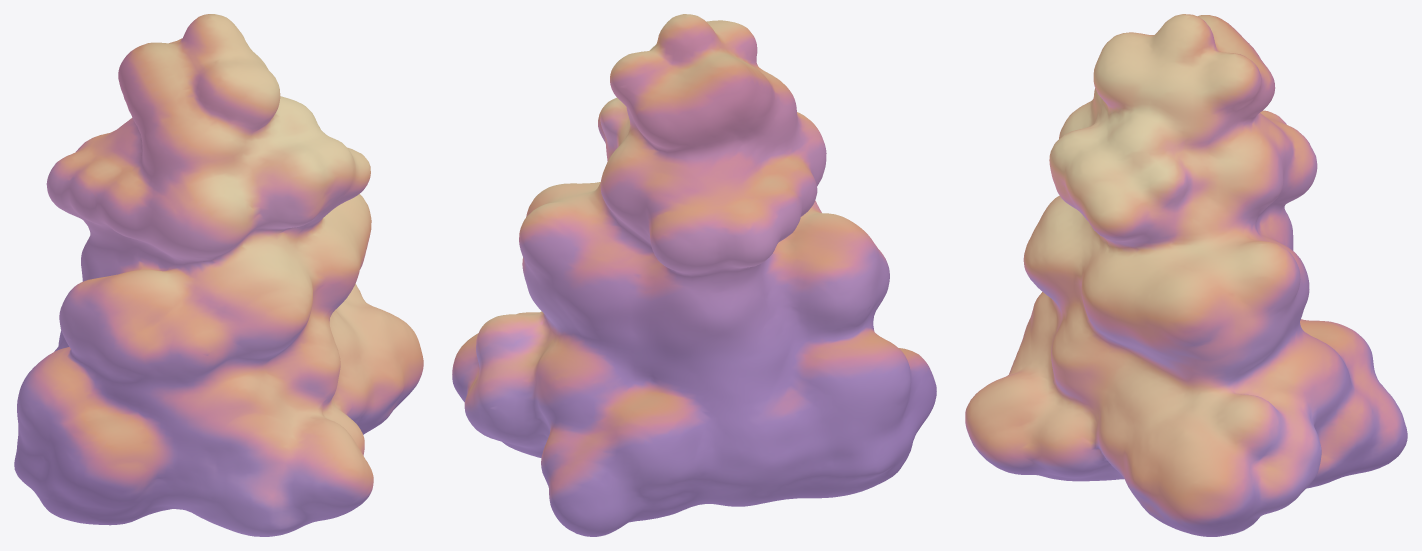
The model's file is nube2.glb.
The picture shows the model from 3 angles, left to right: view 1: azimuth 30°, elevation 25°; view 2: azimuth 150°, elevation 25°; view 3: azimuth 270°, elevation 25°; orthographic projection.
Parts seen in each view (by area): view 1: nube_03_torre_alta; view 2: nube_03_torre_alta; view 3: nube_03_torre_alta.
Part boxes in pixels (x1,y1,x2,y2): nube_03_torre_alta: (14,14,423,536); nube_03_torre_alta: (452,14,936,536); nube_03_torre_alta: (965,14,1407,536).
Bounding box in the file's own units: 4 × 4.22 × 3.7.
